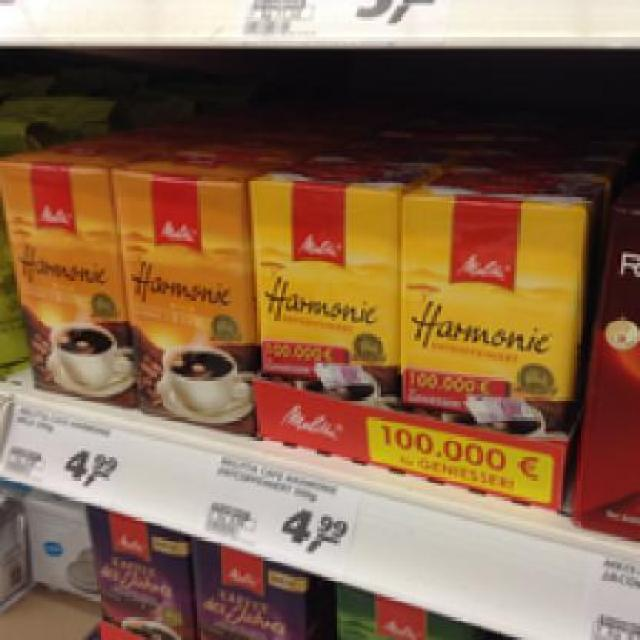Coffee: (397, 162, 597, 428), (109, 148, 268, 432), (243, 157, 400, 403), (0, 140, 132, 404)
